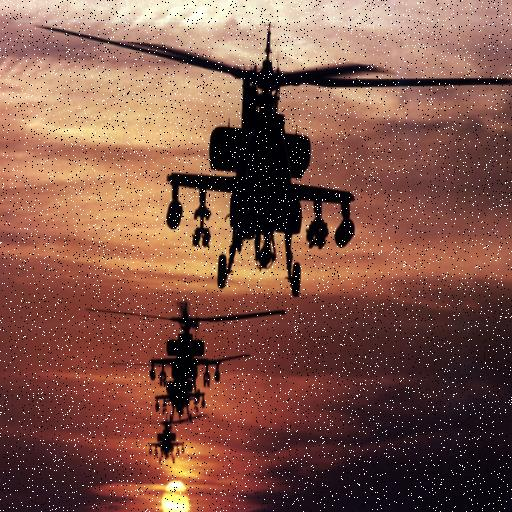helicopter: (37, 23, 512, 275), (88, 300, 287, 385), (131, 416, 192, 460), (154, 387, 221, 427)
